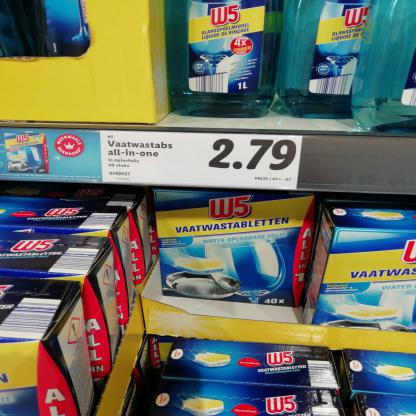prtg: (101, 131, 303, 191)
